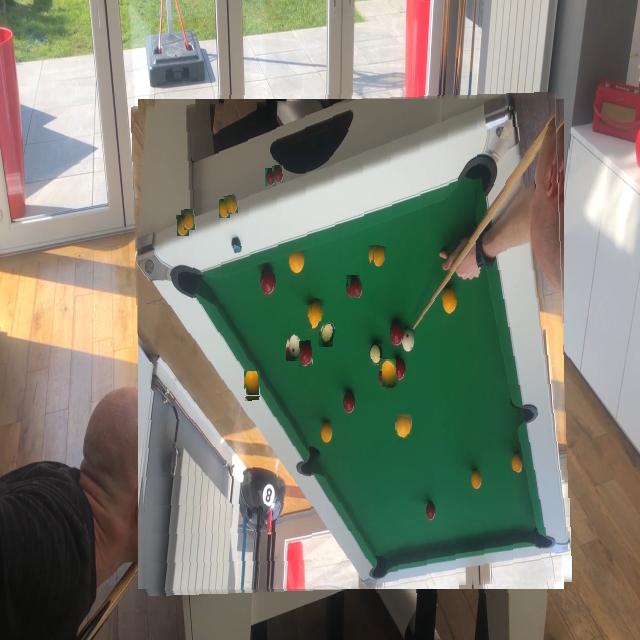Ball: (425, 396, 442, 424), (381, 360, 398, 388), (245, 372, 260, 398), (320, 322, 335, 346), (299, 340, 313, 365), (396, 416, 411, 439), (298, 305, 312, 329), (288, 334, 301, 359), (349, 275, 363, 298), (312, 299, 326, 321), (372, 246, 386, 267), (183, 209, 196, 230), (225, 195, 238, 214), (273, 165, 284, 183)
Billiard table: (136, 95, 570, 593)
